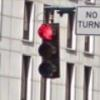traffic lights: (39, 24, 60, 78)
